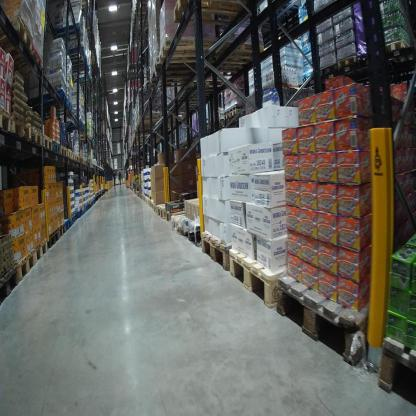pallet: (268, 235, 404, 364), (229, 238, 306, 316), (371, 332, 415, 400), (156, 34, 219, 66), (168, 3, 258, 25), (2, 8, 33, 67), (21, 85, 68, 120), (199, 227, 230, 278), (9, 44, 49, 83), (146, 66, 200, 92), (215, 41, 267, 67), (382, 35, 416, 69), (0, 264, 20, 311), (17, 248, 38, 285), (10, 114, 34, 145), (33, 99, 75, 115), (186, 75, 225, 91), (35, 235, 50, 270), (1, 101, 16, 135), (163, 208, 184, 231), (336, 50, 359, 71), (60, 119, 88, 135), (319, 56, 338, 79), (47, 224, 60, 257), (299, 65, 319, 84), (41, 134, 55, 159), (155, 202, 170, 223), (51, 136, 62, 160), (33, 125, 44, 148), (67, 144, 77, 163), (59, 139, 67, 158), (60, 222, 67, 243), (64, 214, 72, 232), (78, 132, 91, 143), (229, 108, 245, 116), (65, 144, 72, 161), (223, 111, 231, 124), (72, 151, 80, 164), (152, 201, 157, 216)
